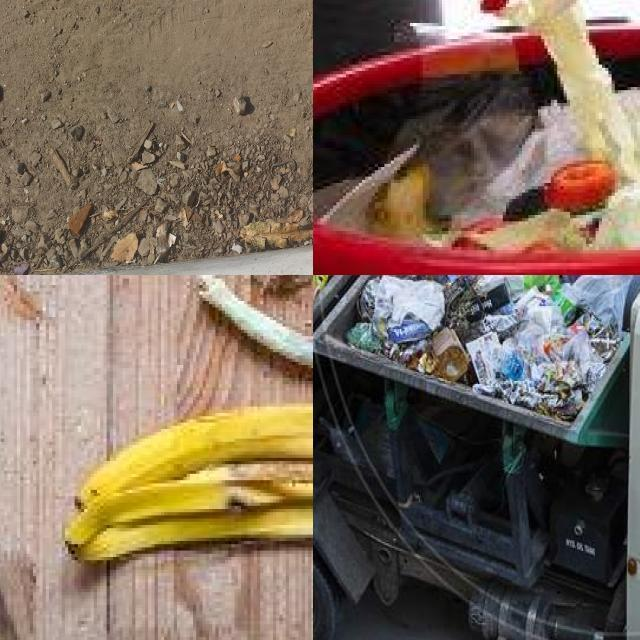Garbage: (49, 275, 313, 596), (321, 91, 640, 252), (348, 275, 640, 420), (454, 104, 587, 223)
Plastic: (500, 339, 524, 381)
Plastic_Bag: (480, 308, 605, 420), (358, 275, 443, 342), (568, 275, 634, 332), (527, 303, 564, 333), (551, 289, 577, 323), (519, 275, 561, 291)
Plastic_bottle: (430, 326, 469, 382)
Tetrapack: (464, 283, 509, 322)
